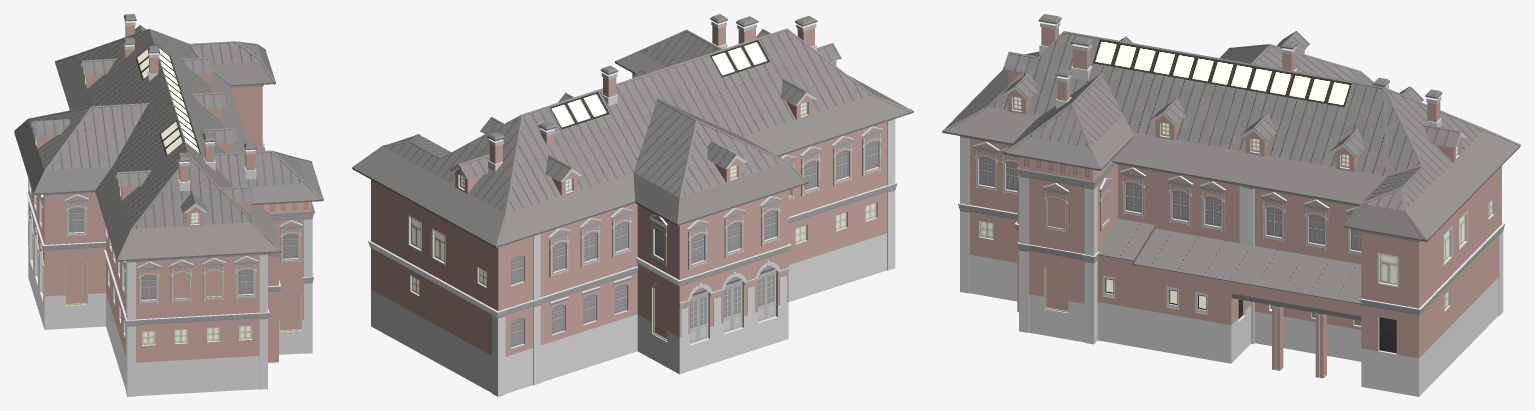
3 views of the same model, side by side, from view 1: azimuth 30°, elevation 25°; view 2: azimuth 150°, elevation 25°; view 3: azimuth 270°, elevation 25° (orthographic). The views are drawn at different scales.
Parts seen in each view (by area): view 1: 01020-50@89779; view 2: 01020-50@89779; view 3: 01020-50@89779.
Boxes of the visible parts, x1=… form: 01020-50@89779: x1=14, y1=14, x2=323, y2=396; 01020-50@89779: x1=352, y1=14, x2=913, y2=396; 01020-50@89779: x1=942, y1=14, x2=1520, y2=396.
Bounding box in the file's own units: 24.18 × 16.23 × 32.11.
1 material, 1 textured.
